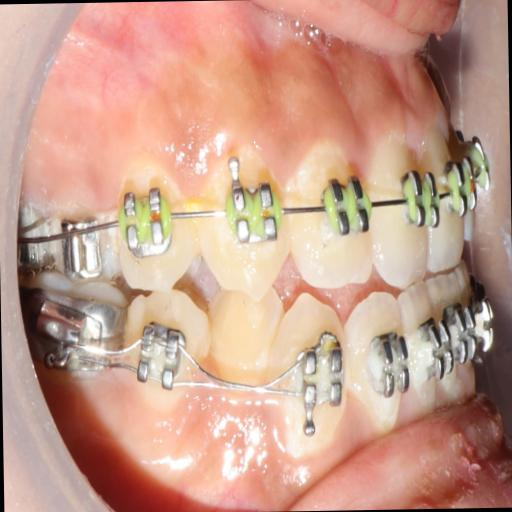correct_brace: (116, 152, 190, 292), (224, 174, 282, 246), (318, 167, 369, 244), (366, 324, 409, 408), (294, 341, 344, 410), (400, 167, 443, 232)
incorrect_brace: (290, 146, 370, 288), (348, 296, 410, 425), (118, 184, 176, 266)
